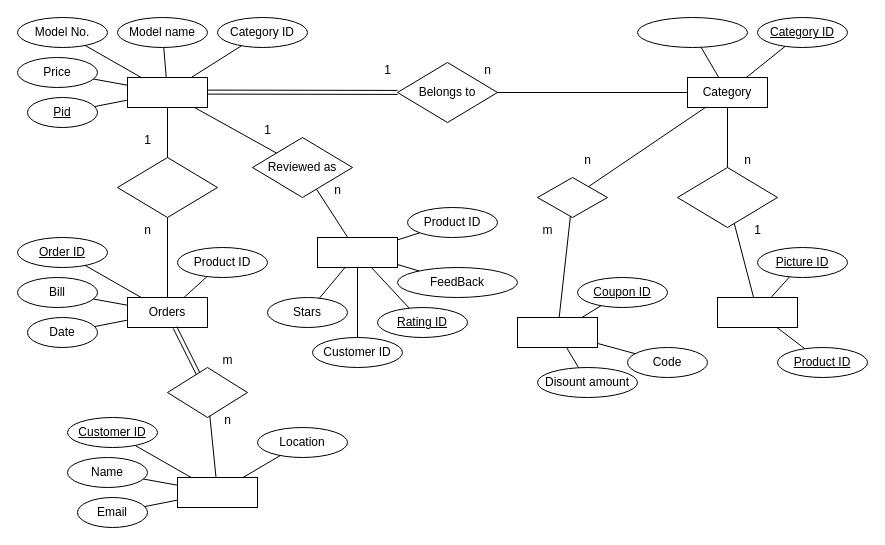
Image size: 885x545. Some labels were removed from this diagram. Here are the shapes that lost their labels. From the top down, the centre of each, then its label:
At point 692,32: "Category name".
At point 167,92: "Products".
At point 167,187: "Contained In".
At point 572,197: "Has".
At point 727,197: "Contains".
At point 357,252: "Reviews".
At point 557,332: "Coupons".
At point 757,312: "Pictures".
At point 207,392: "Ordered by".
At point 217,492: "Customer".
